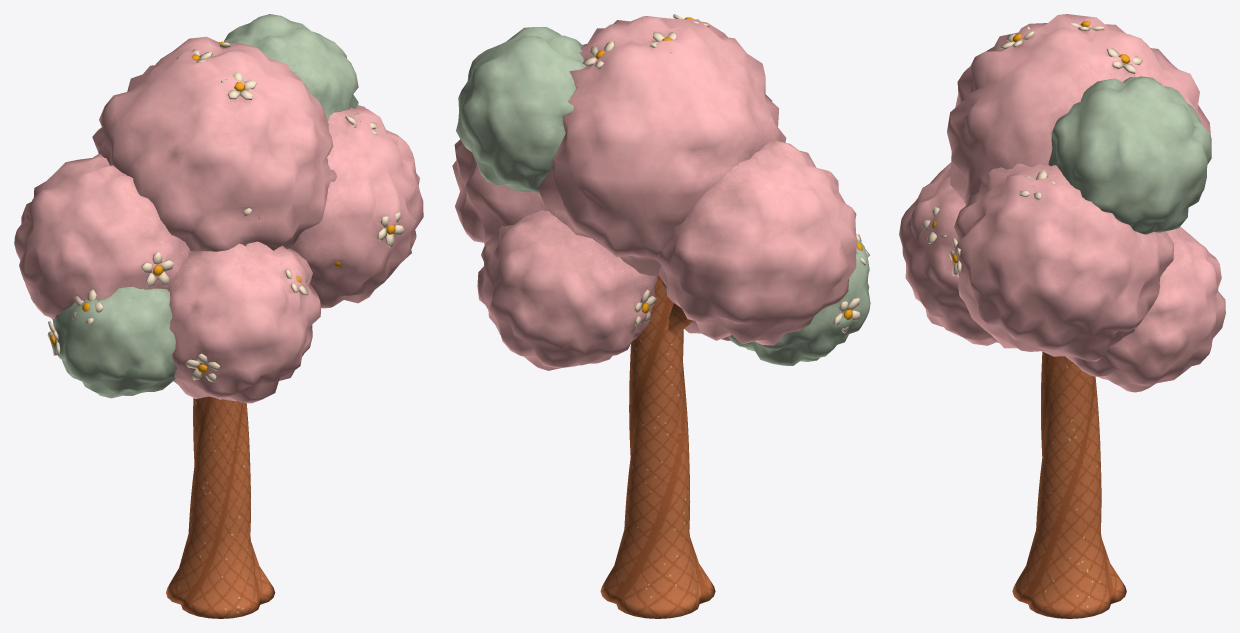
Rendered from tree-pink.glb.
3 renders of one model, left to right at view 1: azimuth 30°, elevation 25°; view 2: azimuth 150°, elevation 25°; view 3: azimuth 270°, elevation 25°, orthographic. The views are drawn at different scales.
Visible parts, largest first — view 1: tree-pink; view 2: tree-pink; view 3: tree-pink.
Boxes of the visible parts, x1,y1,x2,y2 form: tree-pink: (14, 14, 423, 618); tree-pink: (452, 14, 870, 618); tree-pink: (899, 14, 1225, 618).
Bounding box in the file's own units: 2.88 × 4 × 2.08.
Materials: 1 (1 with a texture image).
